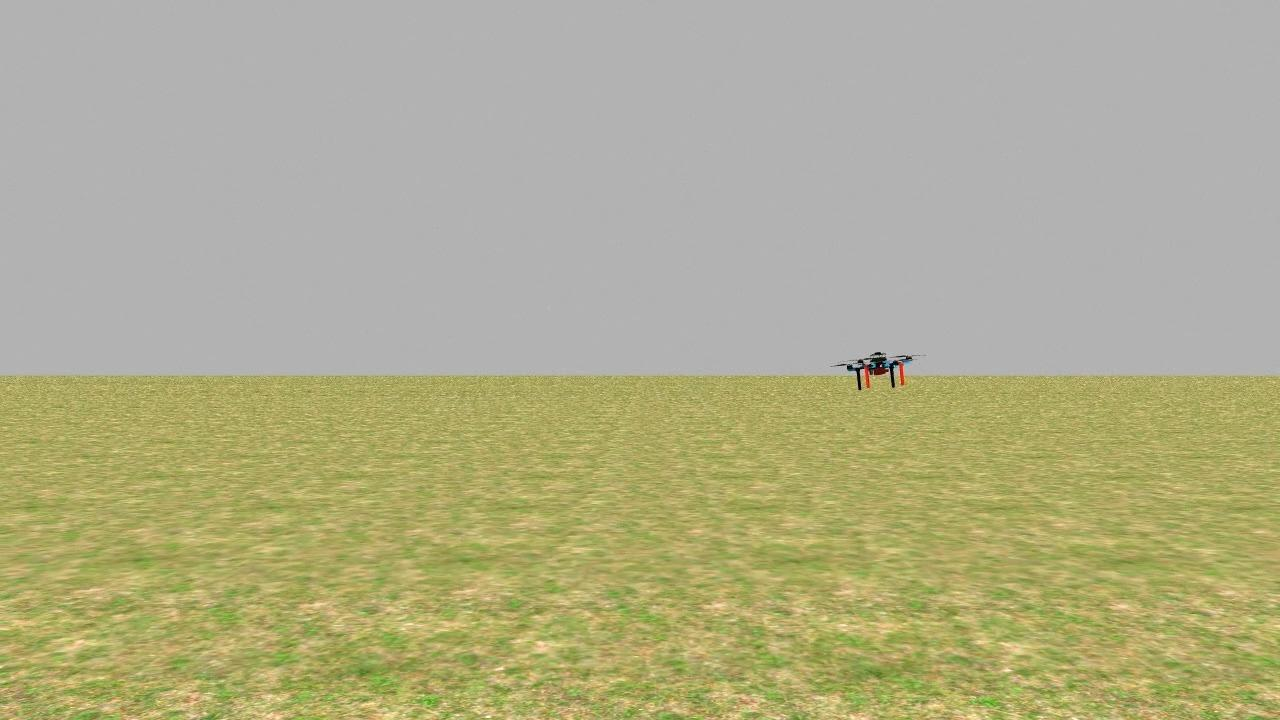UAV: (839, 347, 921, 400)
